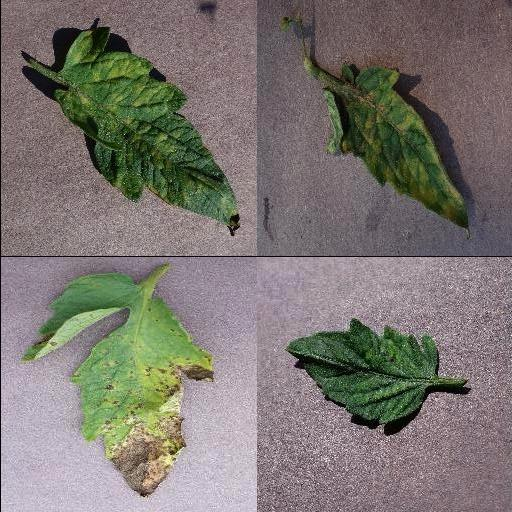Leaf Mold: (56, 29, 240, 236), (320, 66, 472, 240)
Mosaic Virus: (286, 317, 440, 423)
Septoria: (21, 271, 212, 495)
